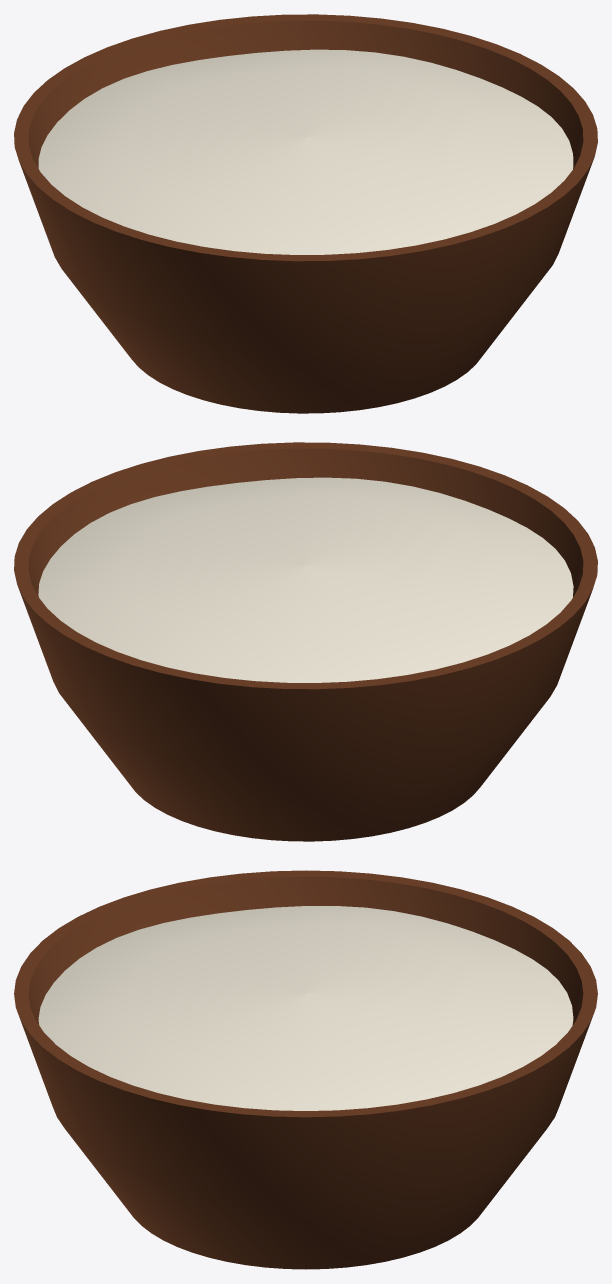
File: cumbuca-branco.glb
3 renders of one model, top to bottom at view 1: azimuth 30°, elevation 25°; view 2: azimuth 150°, elevation 25°; view 3: azimuth 270°, elevation 25°, orthographic.
Visible parts, largest first — view 1: cumbuca-branco; view 2: cumbuca-branco; view 3: cumbuca-branco.
Part boxes in pixels (box(x1,y1,x2,y2)): cumbuca-branco: box(14, 14, 597, 413); cumbuca-branco: box(14, 442, 597, 841); cumbuca-branco: box(14, 870, 597, 1269).
Bounding box in the file's own units: 0.16 × 0.06 × 0.16.
